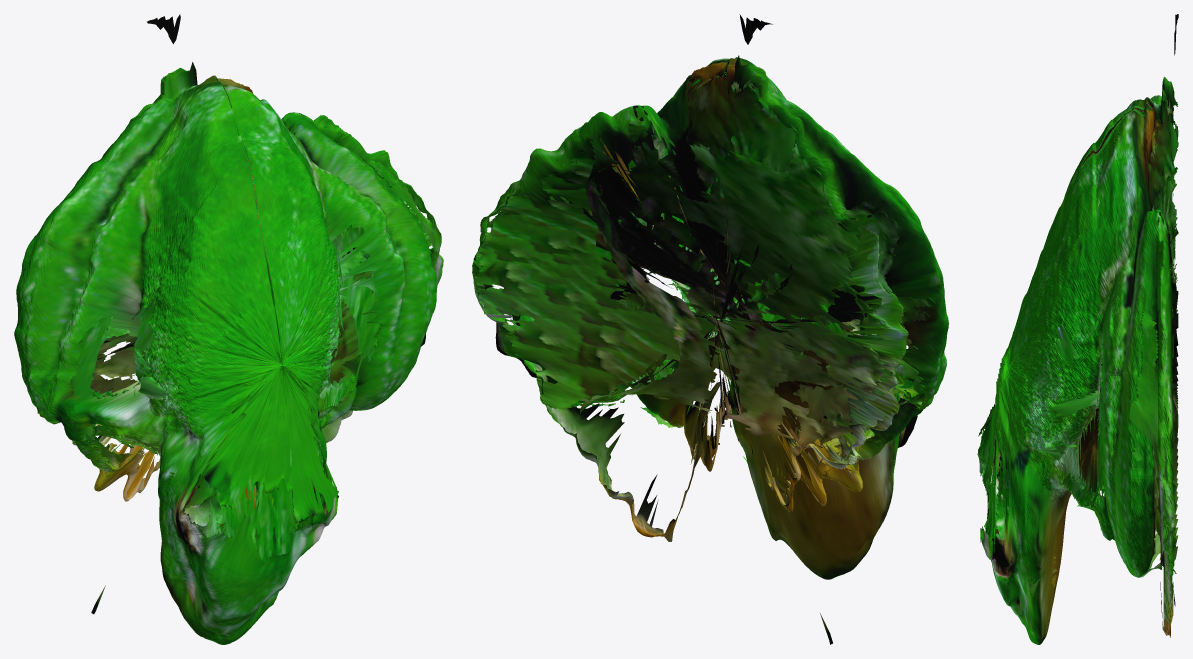
File: detail_mesh.glb
3 renders of one model, left to right at view 1: azimuth 30°, elevation 25°; view 2: azimuth 150°, elevation 25°; view 3: azimuth 270°, elevation 25°, orthographic. The views are drawn at different scales.
Visible parts, largest first — view 1: ipn, fill; view 2: fill, ipn; view 3: ipn, fill.
Part boxes in pixels (left/top/right/bottom): ipn: left=14, top=14, right=443, bottom=644; fill: left=70, top=94, right=436, bottom=562; fill: left=473, top=74, right=935, bottom=500; ipn: left=472, top=14, right=948, bottom=644; ipn: left=979, top=14, right=1178, bottom=644; fill: left=977, top=97, right=1178, bottom=596.
Bounding box in the file's own units: 1.51 × 1.9 × 0.5585.
2 materials, 1 textured.
